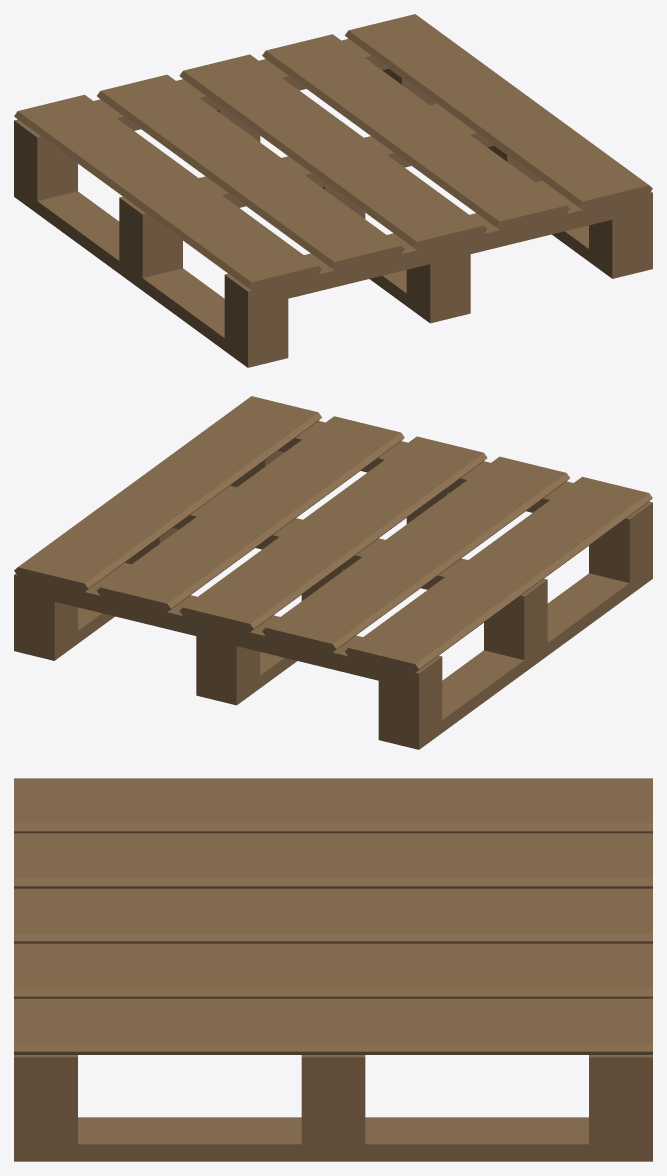
File: Wooden Pallet.fbx
3 views of the same model, one above another, from view 1: azimuth 30°, elevation 25°; view 2: azimuth 150°, elevation 25°; view 3: azimuth 270°, elevation 25° (orthographic). The views are drawn at different scales.
Parts seen in each view (by area): view 1: Wooden Pallet; view 2: Wooden Pallet; view 3: Wooden Pallet.
Boxes of the visible parts, x1,y1,x2,y2 form: Wooden Pallet: [14, 14, 652, 367]; Wooden Pallet: [14, 396, 652, 749]; Wooden Pallet: [14, 778, 652, 1161].
Size of the model in its own units: 10 by 2 by 10.
